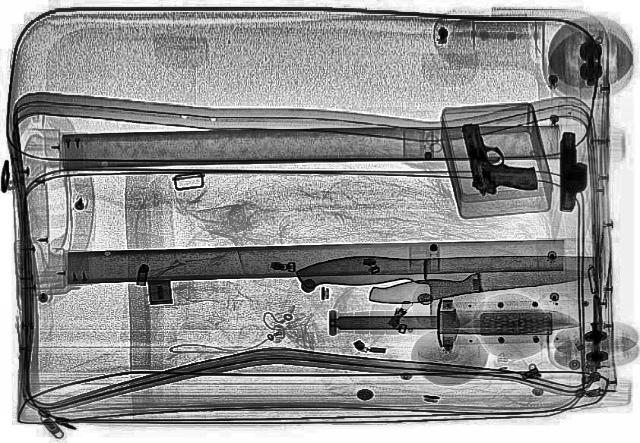Gun: (457, 117, 539, 197), (555, 132, 589, 212)
Knife: (293, 254, 602, 334), (362, 262, 592, 308), (334, 308, 574, 336)
